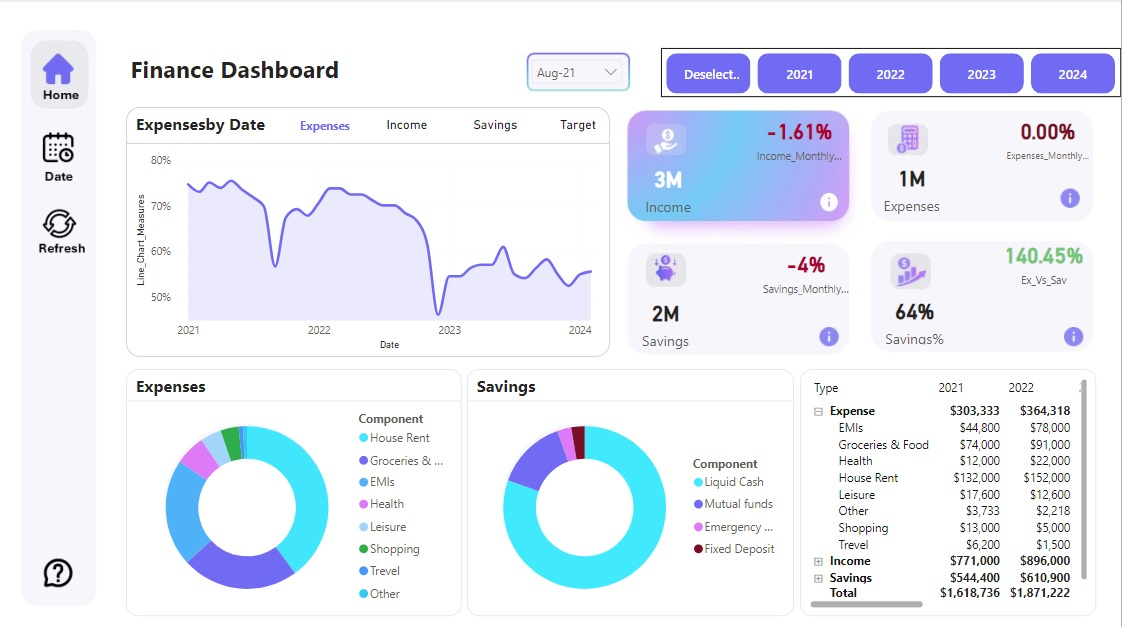

The page's visual inventory and layout, read from the dashboard file:
{"tool":"powerbi","page":{"name":"Page 1","canvas":[1280,720],"ordinal":0},"visuals":[{"type":"card","fields":{"Values":["Dataset.Income"]},"box":[720.7,181.9,84.6,68.1],"z":0},{"type":"card","fields":{"Values":["Dataset.Savings"]},"box":[720.7,328.8,78.8,78.8],"z":1000},{"type":"card","fields":{"Values":["Dataset.Expenses"]},"box":[999.9,177,83.6,74.9],"z":2000},{"type":"card","fields":{"Values":["Dataset.Savings%"]},"box":[1004.7,332.6,78.8,66.1],"z":3000},{"type":"advancedSlicerVisual","fields":{"Values":["Dataset.Year"]},"box":[754.8,55.4,525.2,56.4],"z":4000},{"type":"donutChart","title":"Savings ","fields":{"Category":["Dataset.Component"],"Y":["Dataset.Savings"]},"box":[534,422.1,372.5,282.1],"z":5000},{"type":"donutChart","title":"Expenses ","fields":{"Category":["Dataset.Component"],"Y":["Dataset.Expenses"]},"box":[144.9,422.1,383.2,282.1],"z":6000},{"type":"pivotTable","fields":{"Values":["Dataset.Total_Value"],"Rows":["Dataset.Type","Dataset.Component"],"Columns":["Dataset.Year"]},"box":[914.3,422.1,338.5,282.1],"z":7000},{"type":"areaChart","fields":{"Category":["Dataset.Date"],"Y":["Dataset.Line_Chart_Measures"]},"box":[145.4,123.2,552.2,284.7],"z":8000},{"type":"advancedSlicerVisual","fields":{"Values":["Line_Selection_Table.Type"]},"box":[333.1,118.1,400.8,54.5],"z":9000},{"type":"textbox","box":[145.4,55.5,641,56.5],"z":10000},{"type":"card","fields":{"Values":["Dataset.Expenses_Monthly_Gr"]},"box":[1142.9,124.5,107,67.1],"z":11000},{"type":"slicer","fields":{"Values":["Selected.Month-Yr"]},"box":[598.2,59.3,122.6,47.7],"z":12000},{"type":"card","fields":{"Values":["Dataset.Income_Monthly_Gr"]},"box":[857.9,123.5,109.9,70],"z":13000},{"type":"card","fields":{"Values":["Dataset.Savings_Monthly_Gr"]},"box":[865.7,277.2,108.9,65.2],"z":14000},{"type":"card","fields":{"Values":["Dataset.Ex_Vs_Sav"]},"box":[1134.1,265.5,115.7,67.1],"z":15000},{"type":"actionButton","box":[40.4,151.4,57.5,60.6],"z":16000},{"type":"actionButton","box":[34.2,231.6,71.9,67.3],"z":18000}]}

Visuals, with their boxes on the page's 1280x720 design canvas (x1, y1, x2, y2). These are canvas units, not pixel positions in the 1122x627 screenshot, which may show the page scaled, cropped or inside an application window:
card - Dataset.Income: 721/182/805/250
card - Dataset.Savings: 721/329/800/408
card - Dataset.Expenses: 1000/177/1084/252
card - Dataset.Savings%: 1005/333/1084/399
advancedSlicerVisual - Dataset.Year: 755/55/1280/112
"Savings " donutChart: 534/422/906/704
"Expenses " donutChart: 145/422/528/704
pivotTable - Dataset.Total_Value x Dataset.Type: 914/422/1253/704
areaChart - Dataset.Date x Dataset.Line_Chart_Measures: 145/123/698/408
advancedSlicerVisual - Line_Selection_Table.Type: 333/118/734/173
textbox: 145/56/786/112
card - Dataset.Expenses_Monthly_Gr: 1143/124/1250/192
slicer - Selected.Month-Yr: 598/59/721/107
card - Dataset.Income_Monthly_Gr: 858/124/968/194
card - Dataset.Savings_Monthly_Gr: 866/277/975/342
card - Dataset.Ex_Vs_Sav: 1134/266/1250/333
actionButton: 40/151/98/212
actionButton: 34/232/106/299
